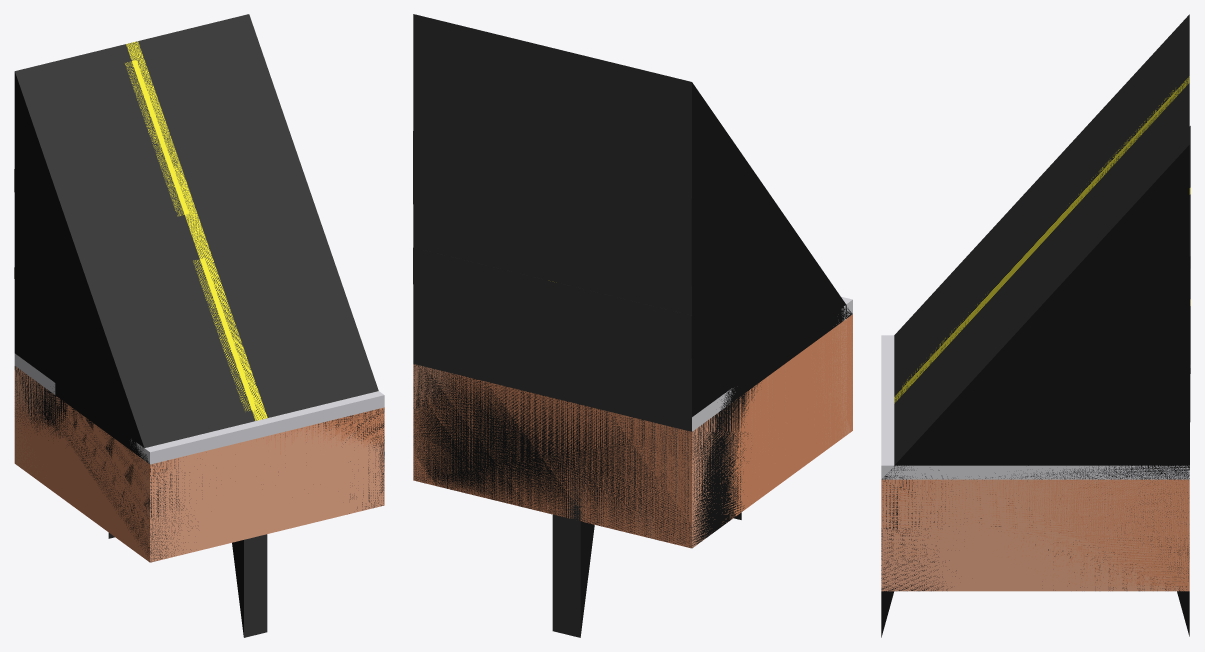
The model's file is Export Blockcar_Grounds.fbx.
3 views of the same model, side by side, from view 1: azimuth 30°, elevation 25°; view 2: azimuth 150°, elevation 25°; view 3: azimuth 270°, elevation 25° (orthographic). The views are drawn at different scales.
Parts seen in each view (by area): view 1: AsfaltoCont.Incli 12x, AsfaltoPontilhado.Incli 12x, SideWalk V2, GrassGround_3, AsfaltoCont-Incli 8x, AsfaltoCont-Incli 4x, SideWalk V3, Tunel Topo, AsfaltoCurva, AsfaltoPontilhado.Incli 8x, AsfaltoPontilhado, SideWalk V1 (+2 smaller); view 2: AsfaltoPontilhado.Incli 12x, AsfaltoCont.Incli 12x, AsfaltoCont-Incli 8x, GrassGround_3, AsfaltoCont-Incli 4x, AsfaltoCont, AsfaltoCurva, SideWalk V1, Tunel Topo, SideWalk V2, SideWalk V3; view 3: AsfaltoCont.Incli 12x, AsfaltoPontilhado.Incli 12x, SideWalk V3, AsfaltoCont-Incli 8x, GrassGround_3, SideWalk V2, AsfaltoPontilhado.Incli 8x, SideWalk V1, AsfaltoCurva, AsfaltoPontilhado.Incli 4x, AsfaltoCont-Incli 4x, Tunel Topo.
Boxes of the visible parts, box(x1,y1,x2,y2) form: AsfaltoCont.Incli 12x: box(14, 14, 378, 462); AsfaltoPontilhado.Incli 12x: box(14, 15, 377, 460); SideWalk V2: box(14, 353, 384, 562); GrassGround_3: box(14, 394, 384, 562); AsfaltoCont-Incli 8x: box(14, 169, 149, 463); AsfaltoCont-Incli 4x: box(14, 267, 145, 460); SideWalk V3: box(14, 396, 378, 561); Tunel Topo: box(108, 533, 267, 637); AsfaltoCurva: box(14, 366, 384, 562); AsfaltoPontilhado.Incli 8x: box(14, 171, 147, 458); AsfaltoPontilhado: box(58, 405, 149, 554); SideWalk V1: box(150, 391, 384, 478); AsfaltoPontilhado.Incli 12x: box(413, 14, 849, 414); AsfaltoCont.Incli 12x: box(413, 14, 852, 416); AsfaltoCont-Incli 8x: box(413, 131, 851, 416); GrassGround_3: box(413, 314, 852, 547); AsfaltoCont-Incli 4x: box(413, 247, 848, 431); AsfaltoCont: box(413, 373, 691, 547); AsfaltoCurva: box(413, 364, 757, 548); SideWalk V1: box(413, 388, 691, 547); Tunel Topo: box(552, 512, 741, 637); SideWalk V2: box(413, 364, 735, 547); SideWalk V3: box(721, 296, 852, 516); AsfaltoCont.Incli 12x: box(884, 14, 1189, 479); AsfaltoPontilhado.Incli 12x: box(885, 15, 1189, 479); SideWalk V3: box(881, 335, 1189, 591); AsfaltoCont-Incli 8x: box(882, 126, 1190, 479); GrassGround_3: box(881, 479, 1189, 591); SideWalk V2: box(881, 479, 1189, 591); AsfaltoPontilhado.Incli 8x: box(905, 257, 1189, 479); SideWalk V1: box(881, 426, 1189, 479); AsfaltoCurva: box(881, 479, 1189, 591); AsfaltoPontilhado.Incli 4x: box(928, 369, 1189, 479); AsfaltoCont-Incli 4x: box(883, 269, 1190, 479); Tunel Topo: box(881, 591, 1189, 637).
Bounding box in the file's own units: 1000 × 2000 × 1003.
